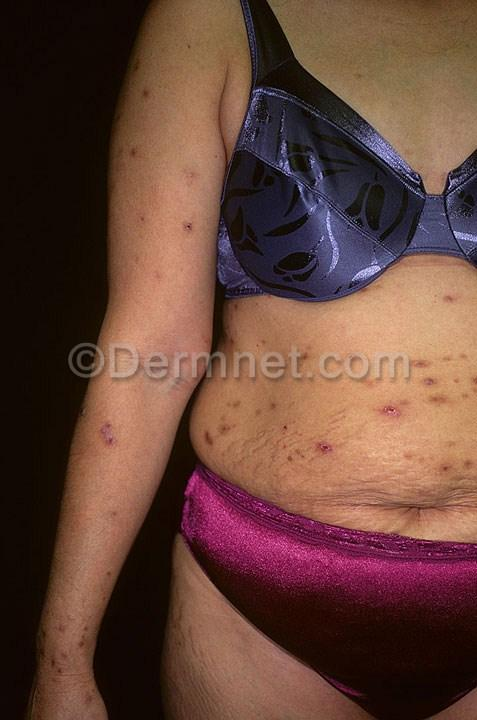Eczema: (400, 356, 455, 420), (398, 446, 455, 497), (288, 425, 339, 478), (85, 402, 133, 456), (257, 404, 307, 455), (117, 53, 161, 108), (213, 383, 263, 428), (159, 204, 209, 246), (367, 390, 411, 436), (134, 250, 177, 297), (424, 278, 467, 325), (225, 297, 270, 341), (198, 402, 245, 440), (447, 356, 477, 414), (108, 132, 154, 169), (47, 617, 91, 654), (439, 443, 477, 478), (49, 656, 83, 695), (85, 554, 125, 587), (120, 206, 158, 239), (94, 492, 128, 526), (352, 272, 386, 303), (174, 158, 209, 186)
